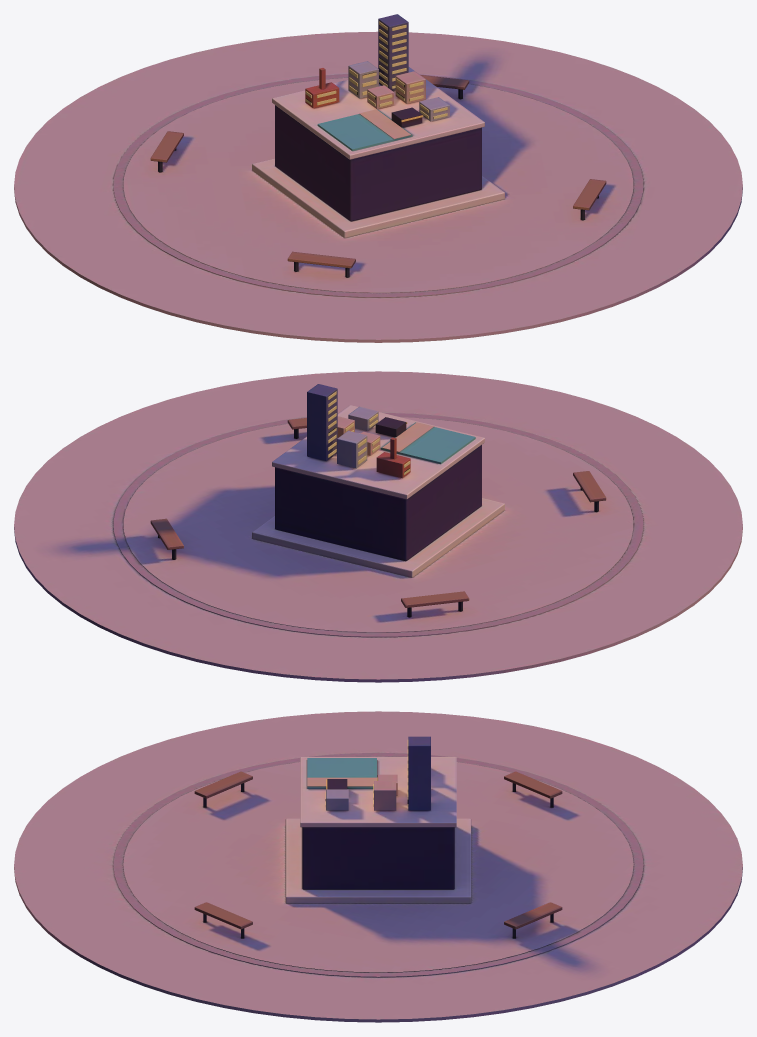
File: square.glb
3 views of the same model, one above another, from view 1: azimuth 30°, elevation 25°; view 2: azimuth 150°, elevation 25°; view 3: azimuth 270°, elevation 25° (orthographic).
Parts seen in each view (by area): view 1: square; view 2: square; view 3: square.
Boxes of the visible parts, bbox=[...] form: square: bbox=[14, 14, 742, 342]; square: bbox=[14, 371, 742, 682]; square: bbox=[14, 711, 742, 1022].
Size of the model in its own units: 11 by 2.41 by 11.
Materials: 1 (1 with a texture image).
